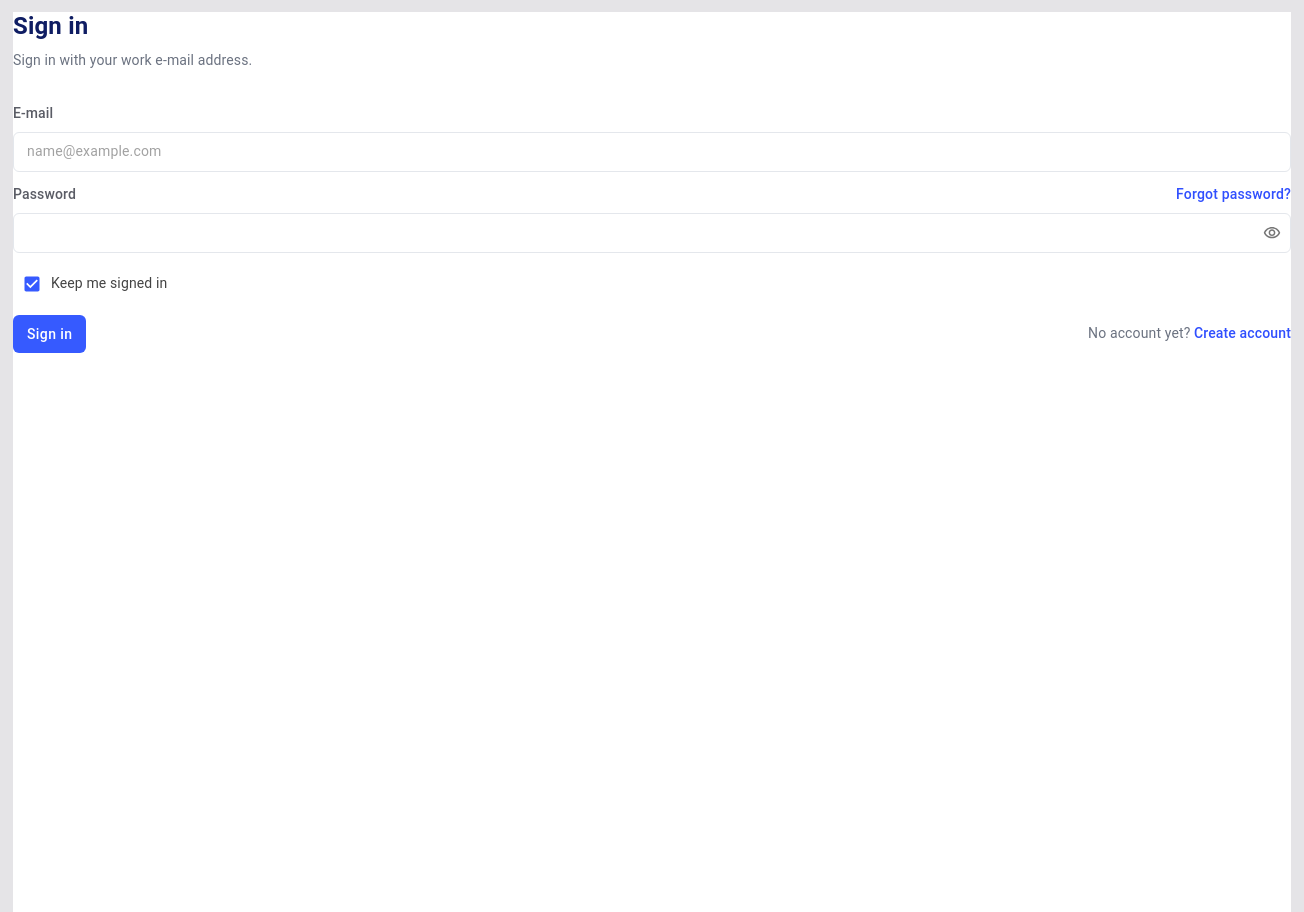
SignInForm validation › rejects an invalid e-mail address
Type "abc" into the field labelled "E-mail" at (652,152), box [13, 132, 1291, 172]
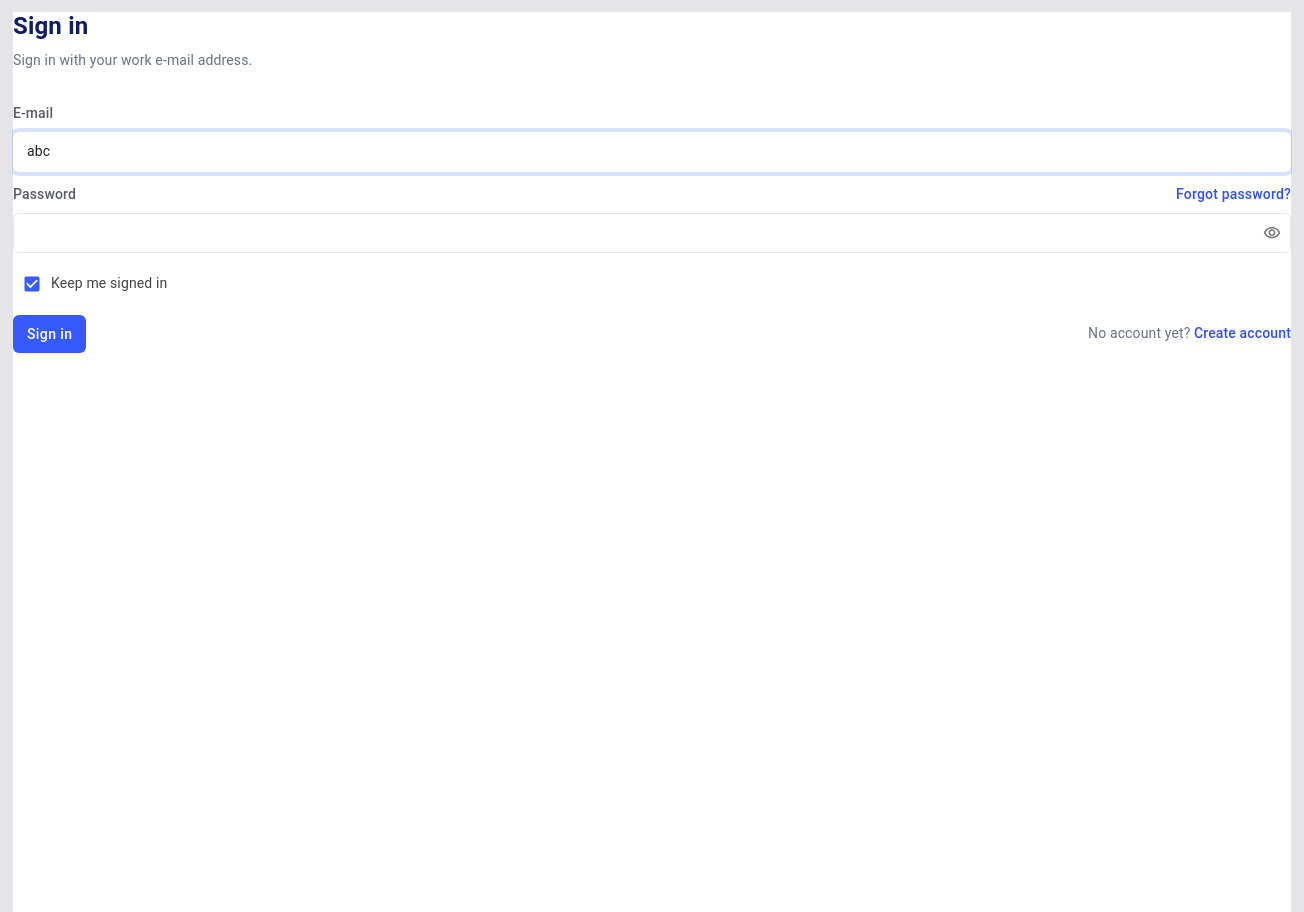
Type "secret" into the password field labelled "Password" at (630,233), box [13, 213, 1247, 253]
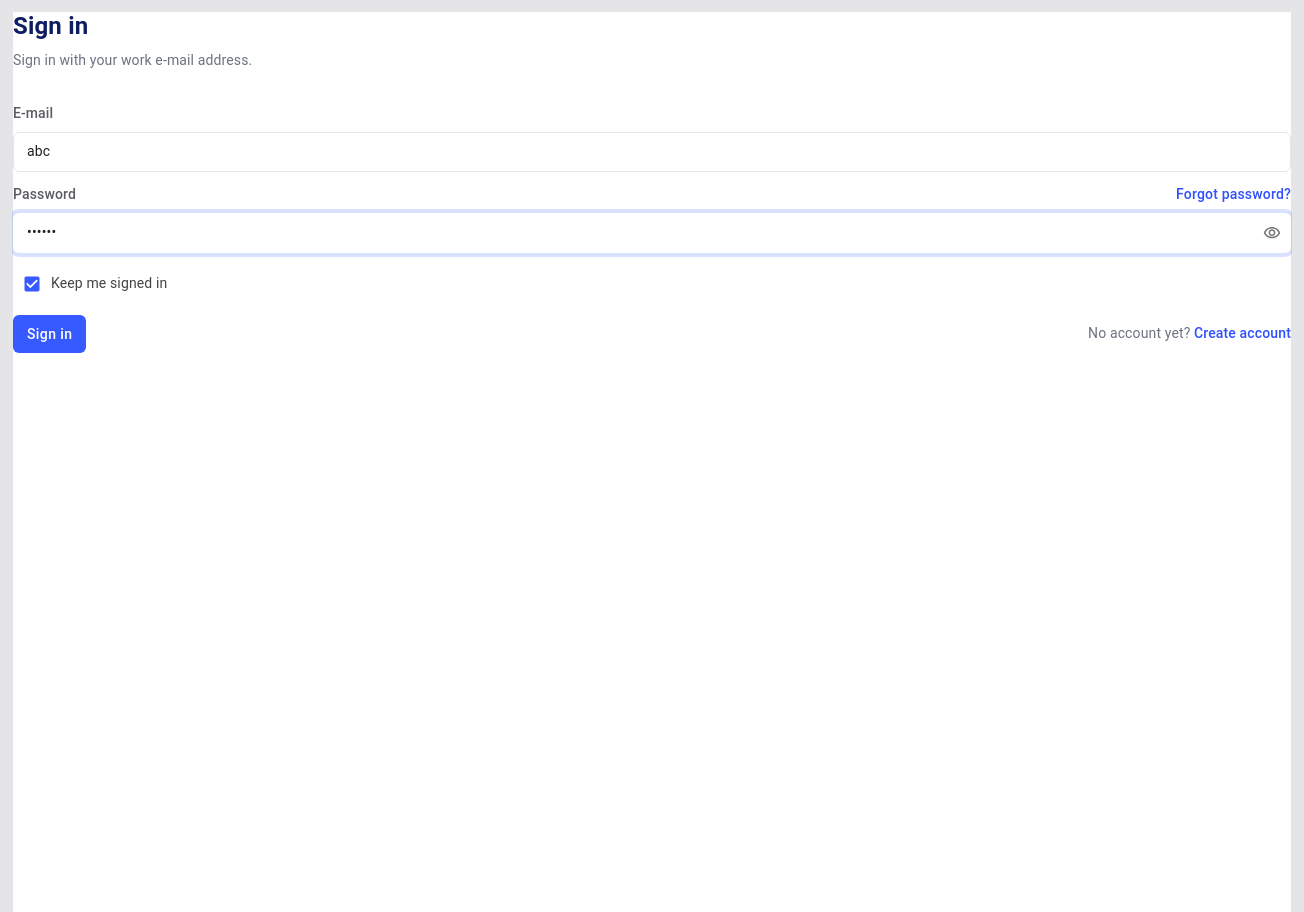
Click the button "Sign in" at (50,334), box [13, 315, 86, 353]
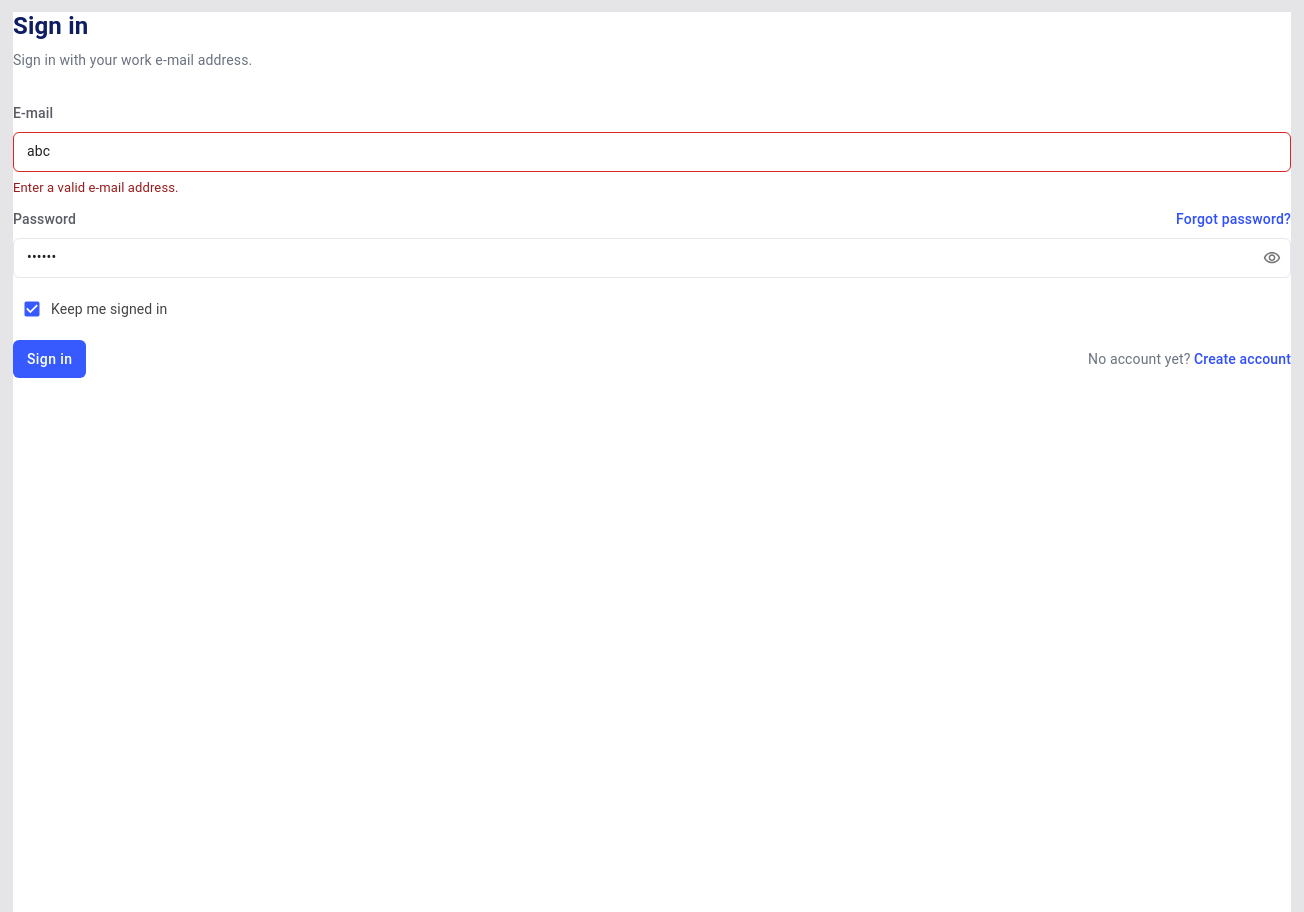
Check: the text "Enter a valid e-mail address." is shown, box [13, 180, 179, 195]
